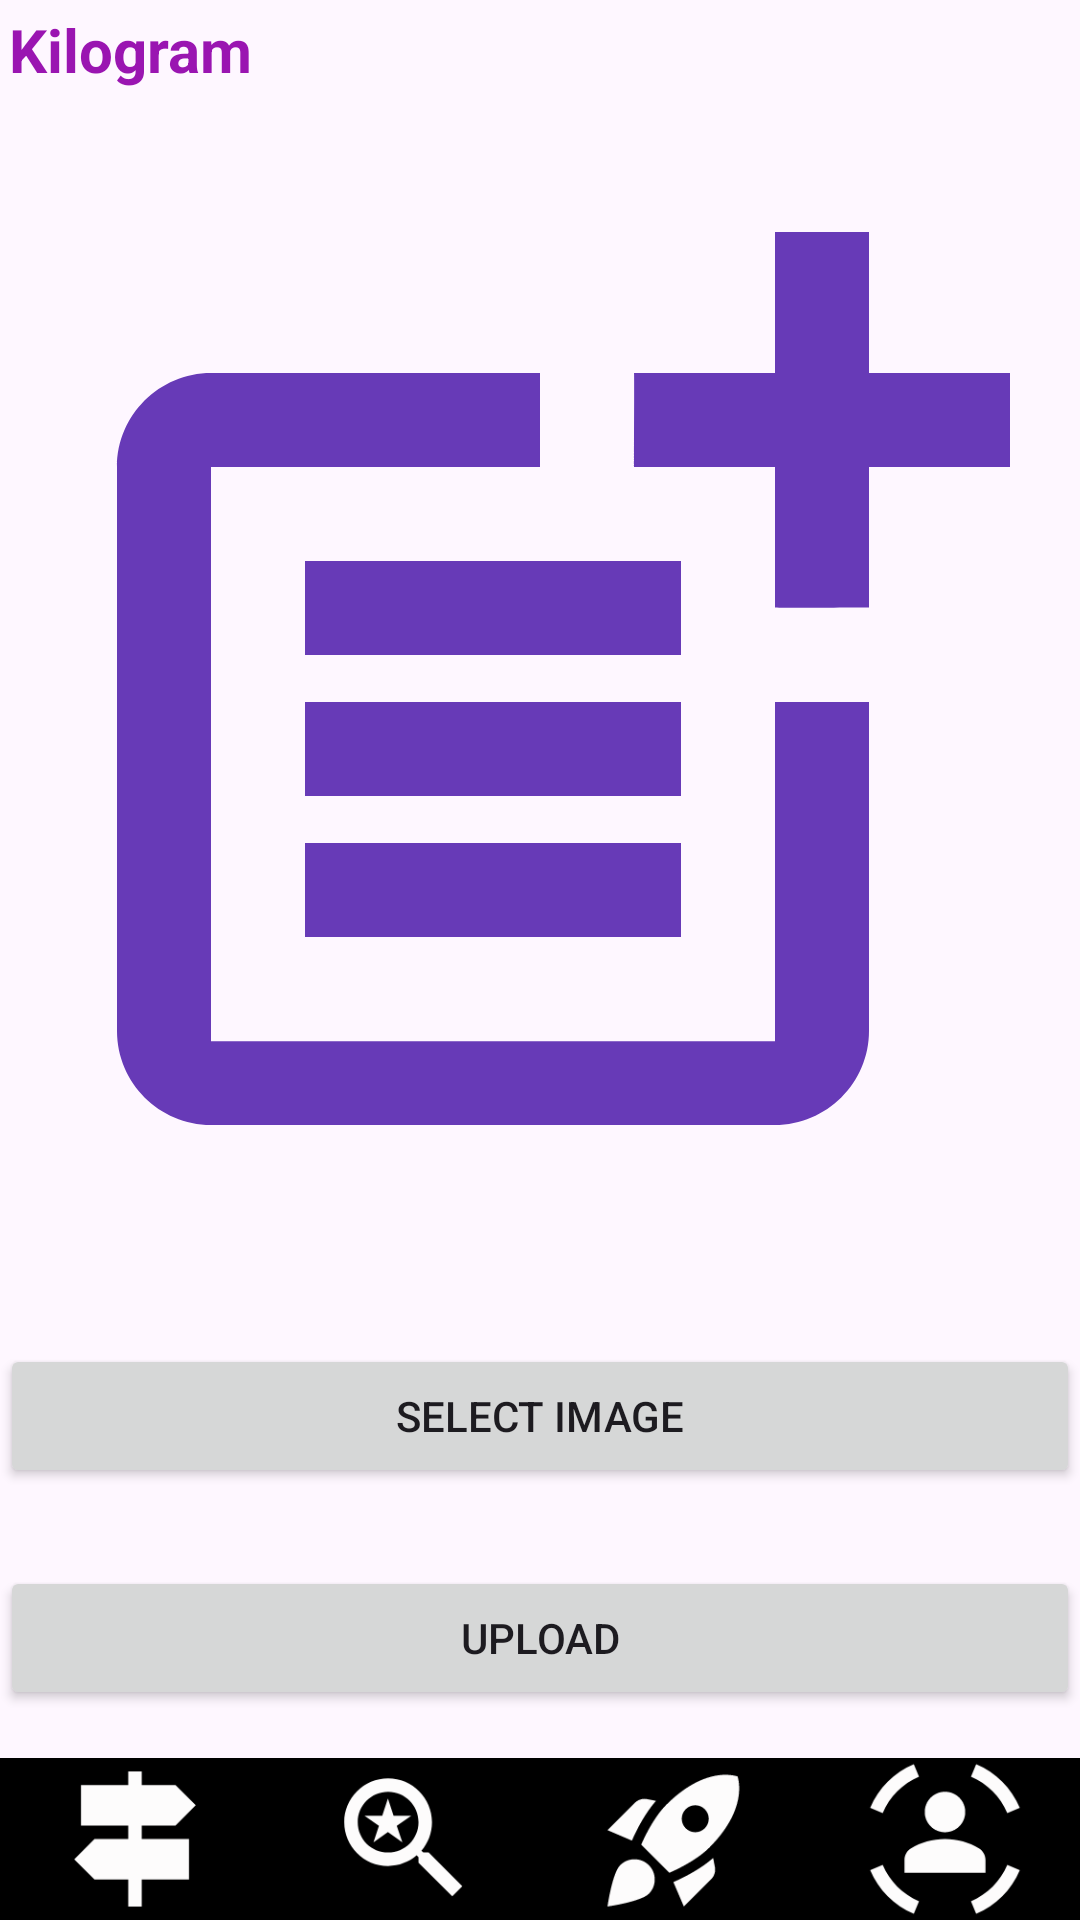

Point at icon controls on the screen. Image size 1080 x 1920, points as (x=x, y=y).
profileactivity: (x=945, y=1839)
searchactivity: (x=403, y=1837)
